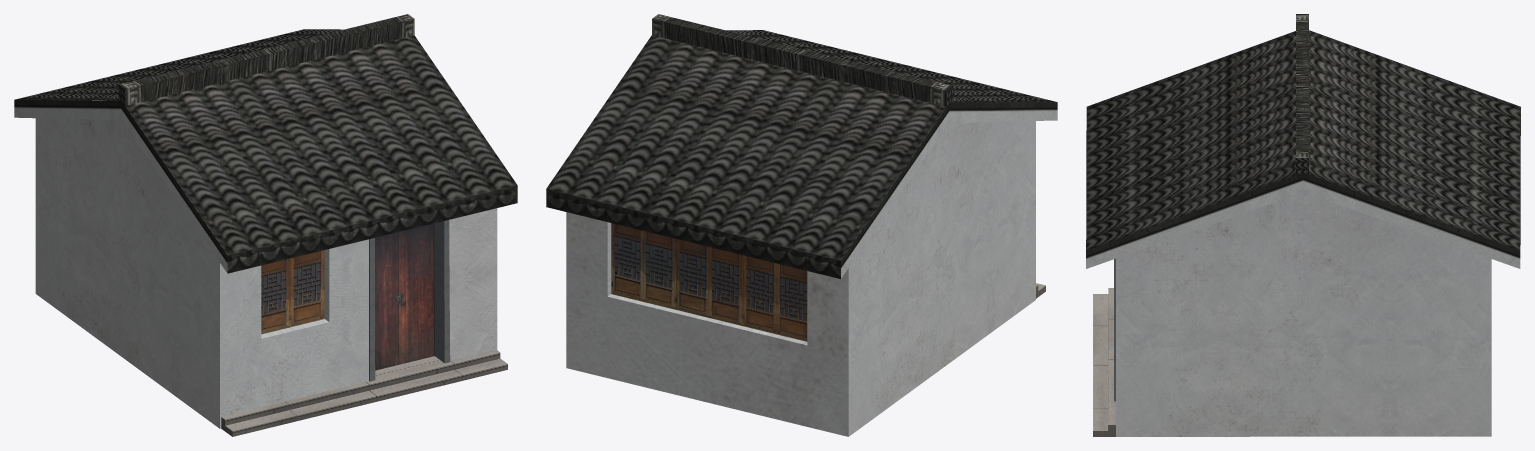
File: Building_MinJu03.FBX
3 renders of one model, left to right at view 1: azimuth 30°, elevation 25°; view 2: azimuth 150°, elevation 25°; view 3: azimuth 270°, elevation 25°, orthographic.
Visible parts, largest first — view 1: MinJu03; view 2: MinJu03; view 3: MinJu03.
Part boxes in pixels (box(x1,y1,x2,y2)): MinJu03: box(14, 14, 517, 436); MinJu03: box(546, 14, 1057, 436); MinJu03: box(1086, 14, 1520, 436).
Size of the model in its own units: 475 by 606 by 434.
